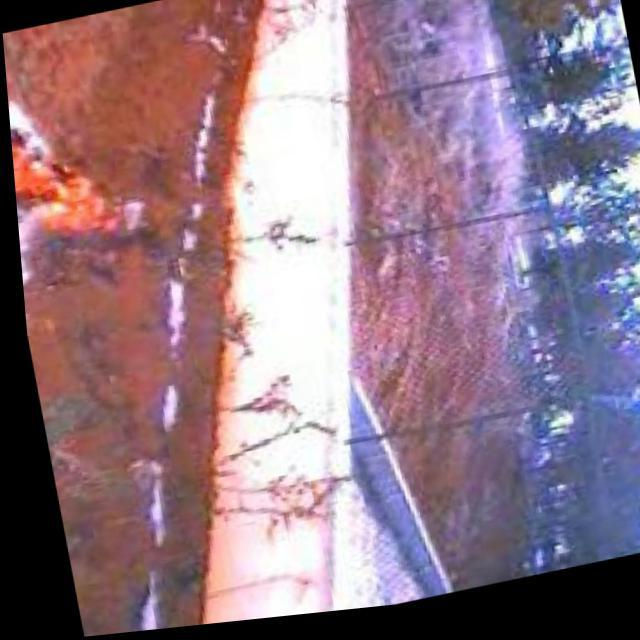fire: (6, 84, 148, 264)
